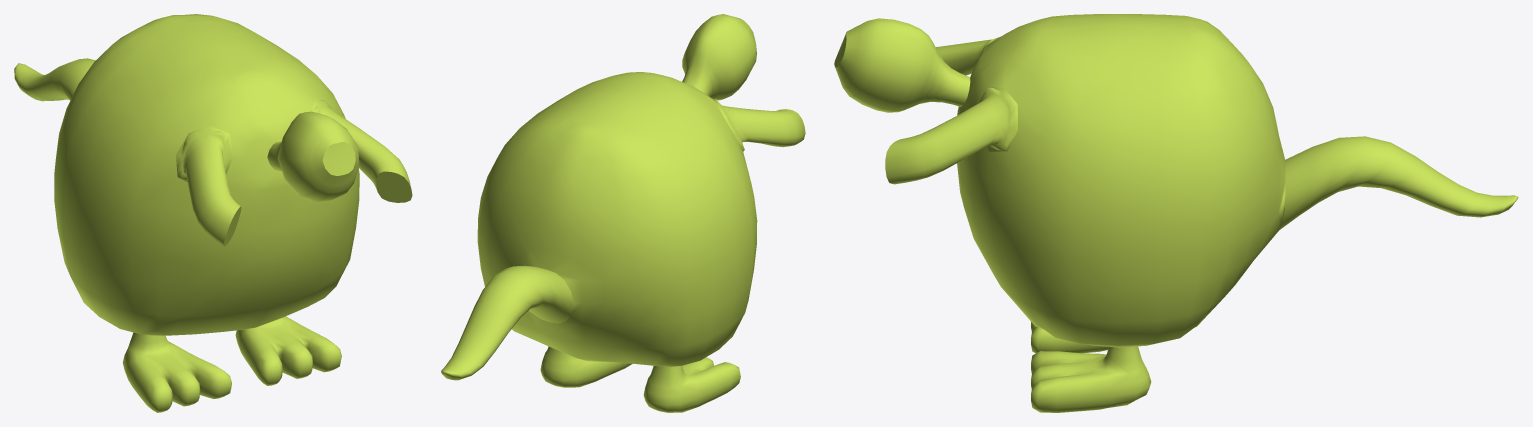
3 views of the same model, side by side, from view 1: azimuth 30°, elevation 25°; view 2: azimuth 150°, elevation 25°; view 3: azimuth 270°, elevation 25° (orthographic). The views are drawn at different scales.
Parts seen in each view (by area): view 1: Bo_te01; view 2: Bo_te01; view 3: Bo_te01.
Boxes of the visible parts, x1,y1,x2,y2 form: Bo_te01: (14, 14, 412, 412); Bo_te01: (441, 14, 805, 412); Bo_te01: (834, 14, 1518, 412).
Bounding box in the file's own units: 45.8 × 99.97 × 56.21.
